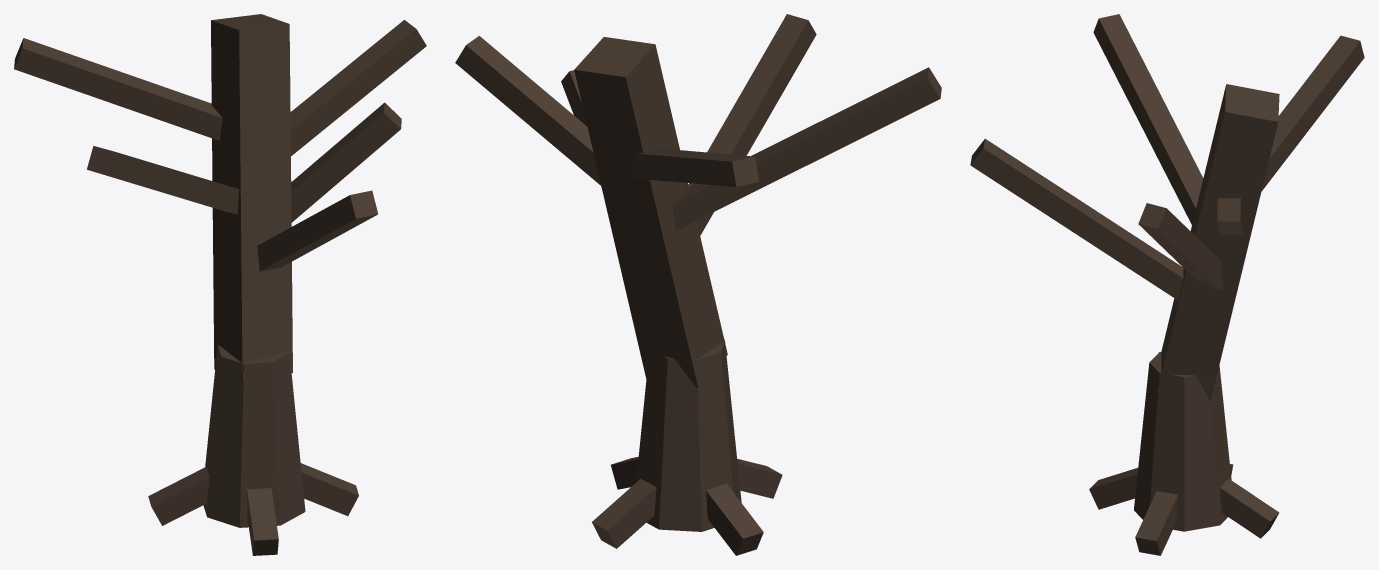
File: tree_willow_l_trunk.fbx
3 views of the same model, side by side, from view 1: azimuth 30°, elevation 25°; view 2: azimuth 150°, elevation 25°; view 3: azimuth 270°, elevation 25° (orthographic). The views are drawn at different scales.
Parts seen in each view (by area): view 1: tree_willow_l_trunk; view 2: tree_willow_l_trunk; view 3: tree_willow_l_trunk.
Boxes of the visible parts, x1,y1,x2,y2 form: tree_willow_l_trunk: (14,14,426,555); tree_willow_l_trunk: (455,14,941,555); tree_willow_l_trunk: (970,14,1364,555).
Size of the model in its own units: 1768 by 1997 by 1624.
